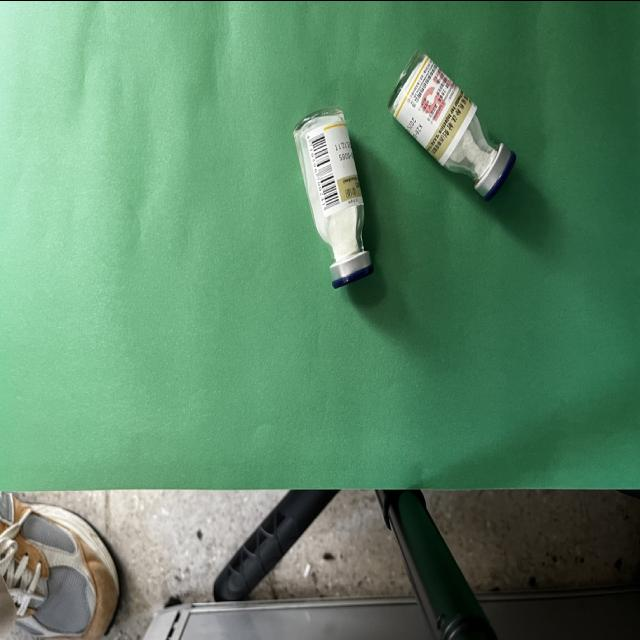Vials: (388, 49, 517, 201), (294, 106, 374, 288)
